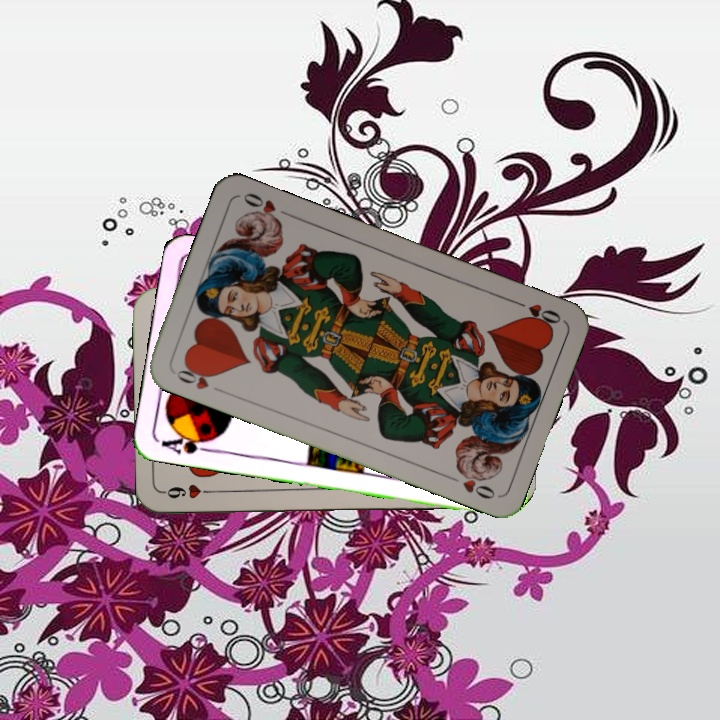H9: (160, 480, 219, 501)
HO: (172, 360, 227, 396), (508, 295, 564, 330)
SA: (157, 428, 218, 457)
